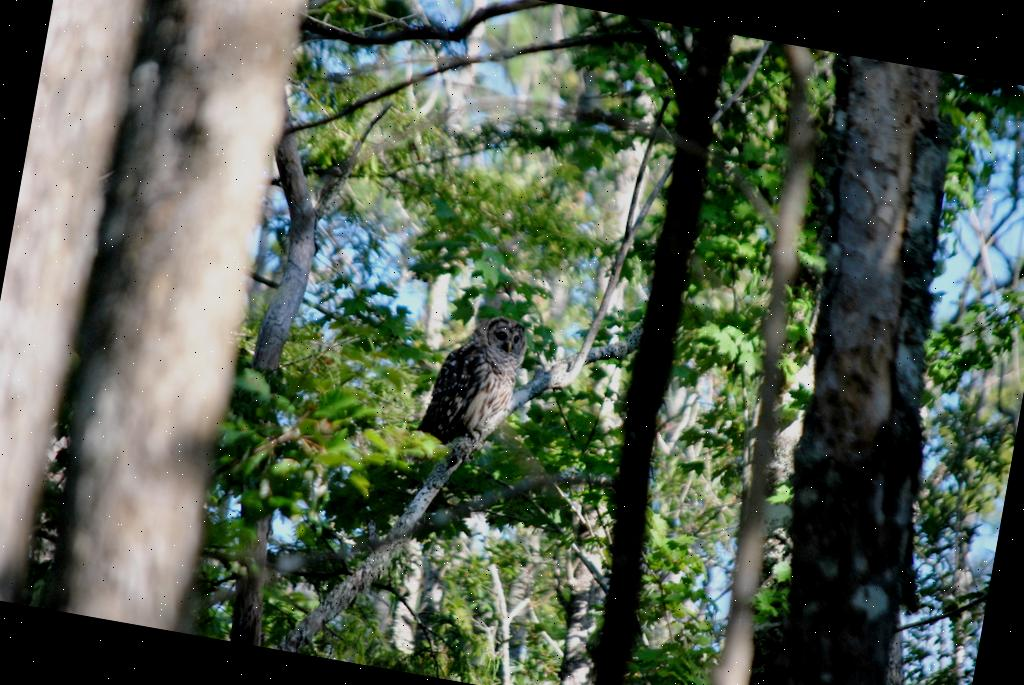Owl: (414, 301, 530, 462)
